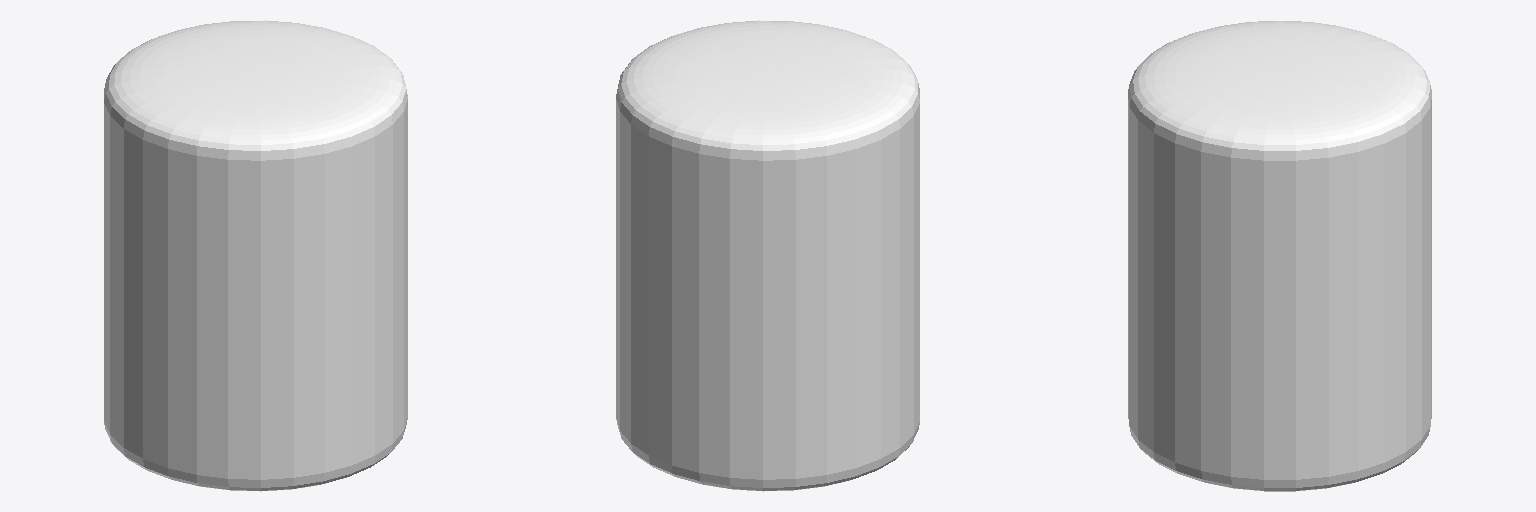
URDF robot description (obs):
<?xml version="1.0" ?>
<robot name="obs">
  <link name="obs_Link">
    <inertial>
      <origin rpy="0 0 0" xyz="0 0 0"/>
       <mass value=".0"/>
       <inertia ixx="0" ixy="0" ixz="0" iyy="0" iyz="0" izz="0"/>
    </inertial>
    <visual>
      <origin rpy="0 0 0" xyz="0 0 0"/>
      <geometry>
	      <mesh filename="obs000.stl" scale="1 1 1"/>
      </geometry>
      <material name="white">
        <color rgba="1 1 1 1"/>
      </material>
    </visual>
  </link>
</robot>

--- What the picture shows (computed from the rendered views, not written in the file) ---
Views: 3 orthographic renders of the robot side by side, from view 1: azimuth 30°, elevation 25°; view 2: azimuth 150°, elevation 25°; view 3: azimuth 270°, elevation 25°.
Model obs with 1 links and 0 joints (none), rooted at obs_Link, posed all joints at 0.
Visible links, largest first — view 1: obs_Link; view 2: obs_Link; view 3: obs_Link.
Link boxes in pixels (<box>): obs_Link: <box>104,20,407,491</box>; obs_Link: <box>616,20,919,491</box>; obs_Link: <box>1128,21,1431,491</box>.
Size in the robot's own frame: 1.19 by 1.2 by 1.6 metres.
1 mesh visuals loaded from 1 distinct referenced files (1 binary STL).
